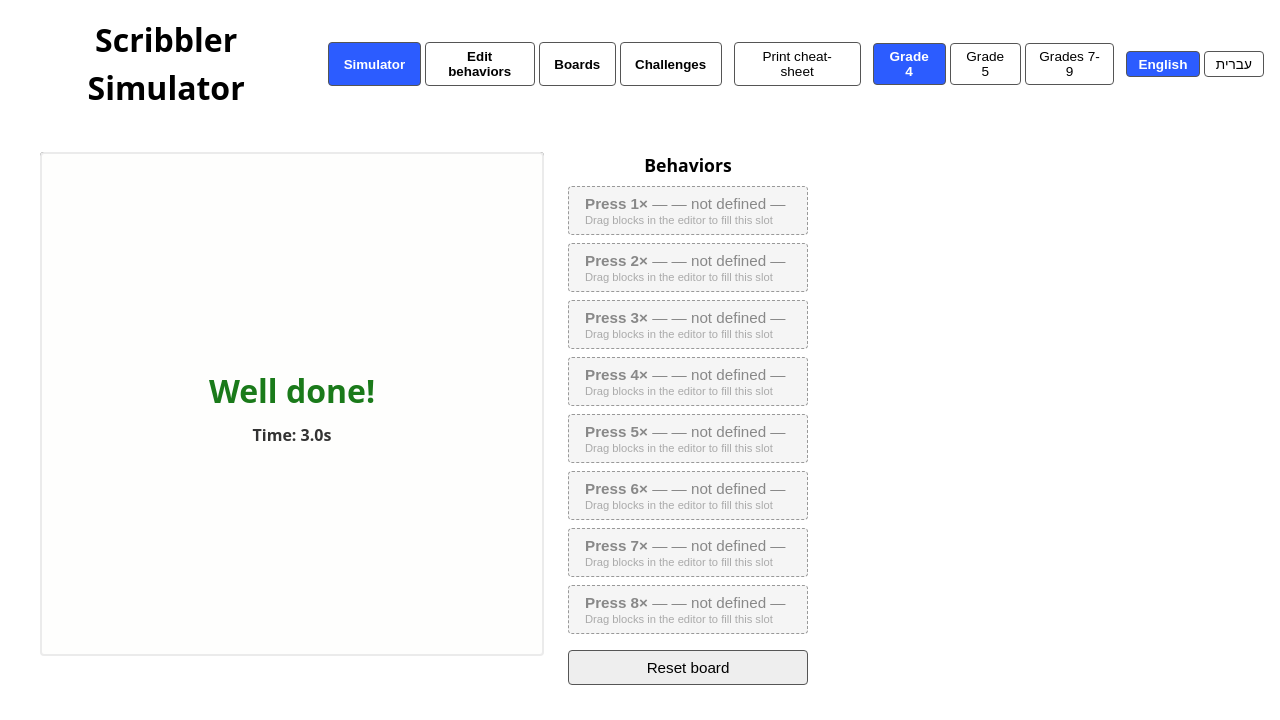
Scenario: App — boards mode › records a successful run and shows it in the run history
Click the tab "Boards": (577, 64) 539,42 -> 616,86
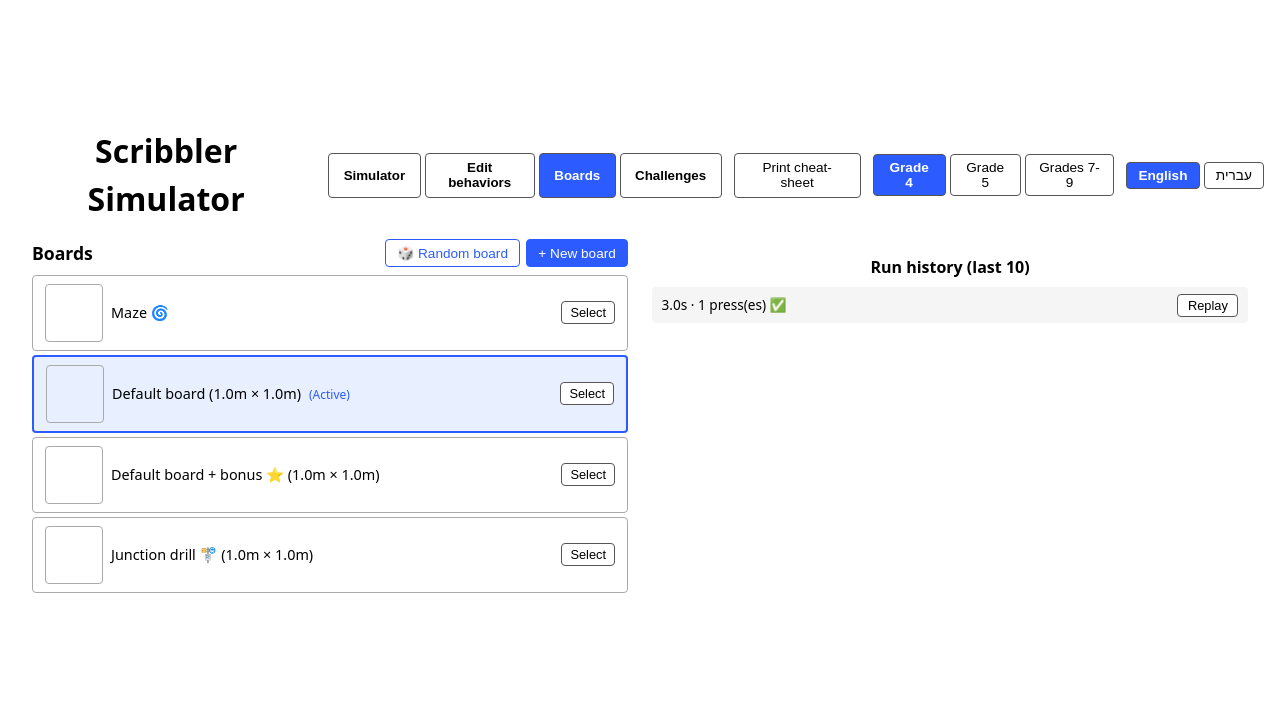
Now the button "Replay" is shown, box 1177,294 -> 1238,317
